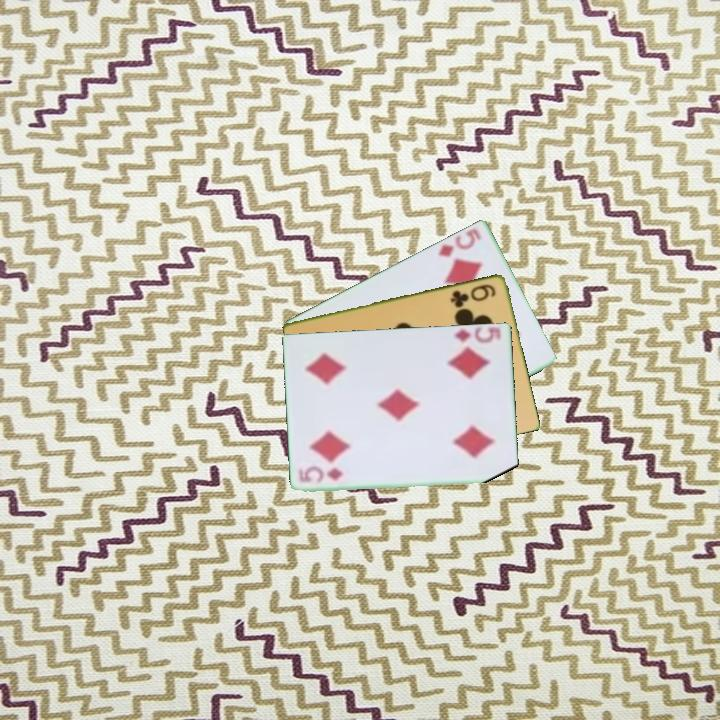5d: (434, 224, 484, 259), (450, 325, 502, 346), (296, 466, 346, 486)
6c: (447, 280, 499, 309)
